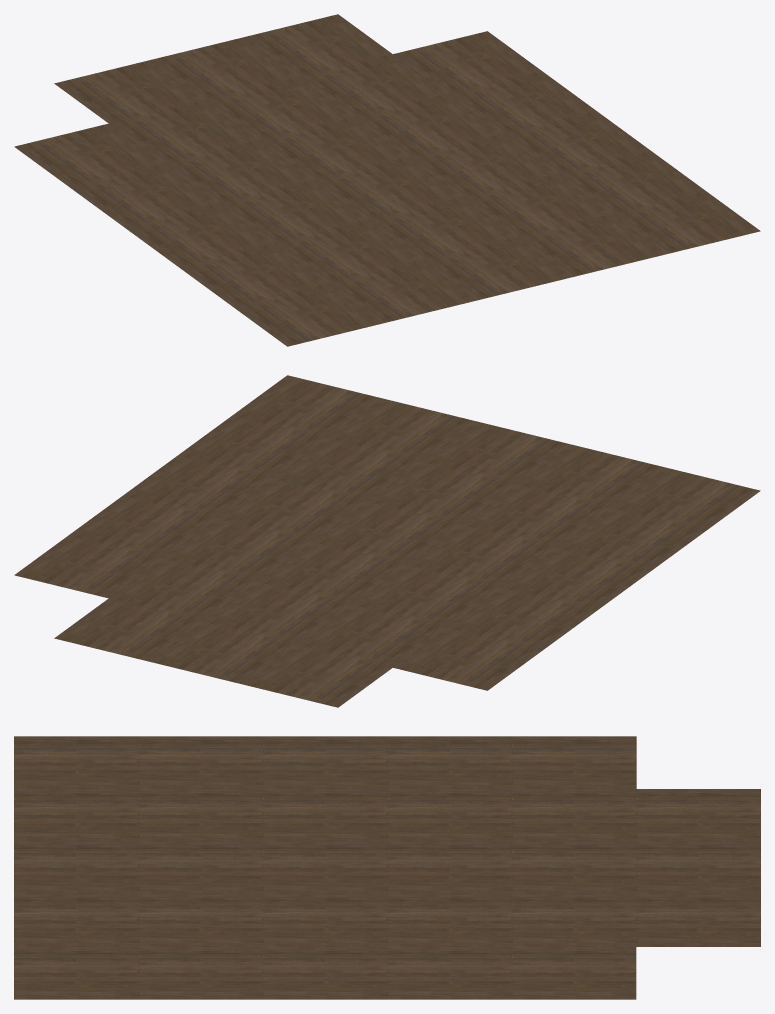
Rendered from Homeworld_Interior_Dq_Room_P_Floor_01_Vo.fbx.
3 renders of one model, top to bottom at view 1: azimuth 30°, elevation 25°; view 2: azimuth 150°, elevation 25°; view 3: azimuth 270°, elevation 25°, orthographic. The views are drawn at different scales.
Visible parts, largest first — view 1: Homeworld_Interior_Dq_Room_P_Floor_01_Vo; view 2: Homeworld_Interior_Dq_Room_P_Floor_01_Vo; view 3: Homeworld_Interior_Dq_Room_P_Floor_01_Vo.
Part boxes in pixels (x1=…): Homeworld_Interior_Dq_Room_P_Floor_01_Vo: x1=14, y1=14, x2=760, y2=346; Homeworld_Interior_Dq_Room_P_Floor_01_Vo: x1=14, y1=375, x2=760, y2=707; Homeworld_Interior_Dq_Room_P_Floor_01_Vo: x1=14, y1=736, x2=760, y2=999.
Size of the model in its own units: 25 by 2.19e-06 by 30.
